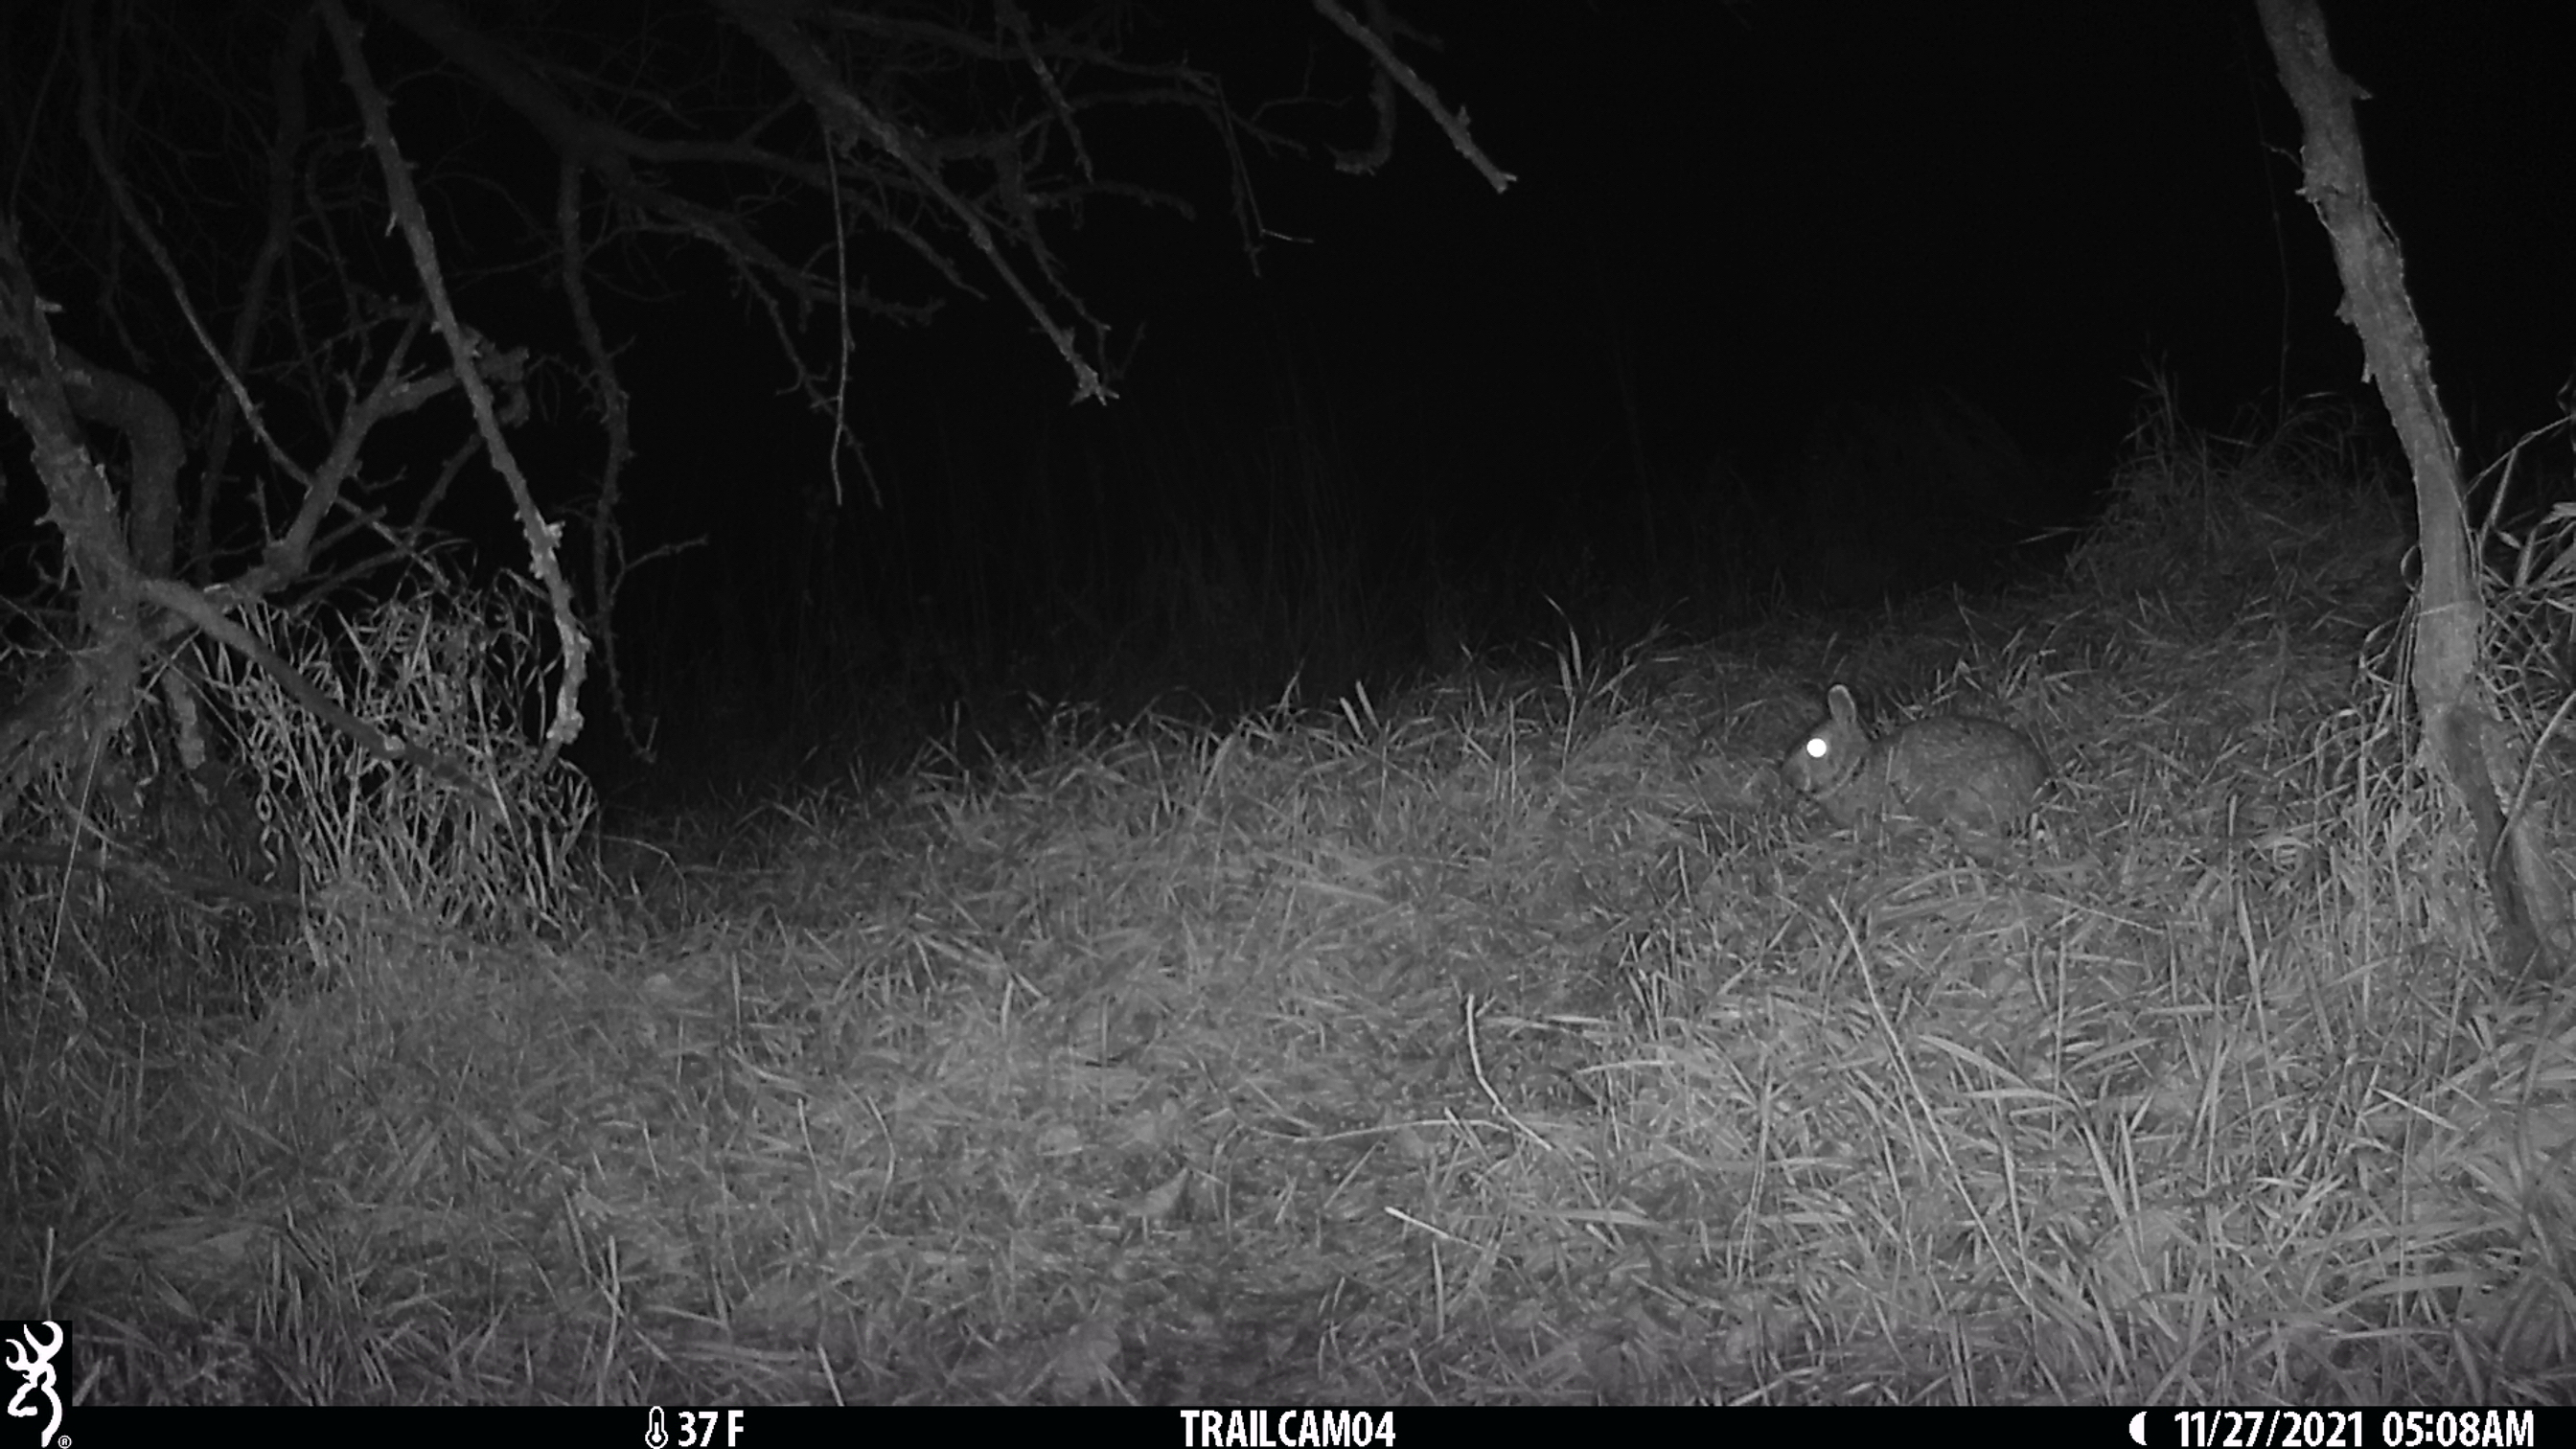Rabbit: (1776, 678, 2068, 830)
